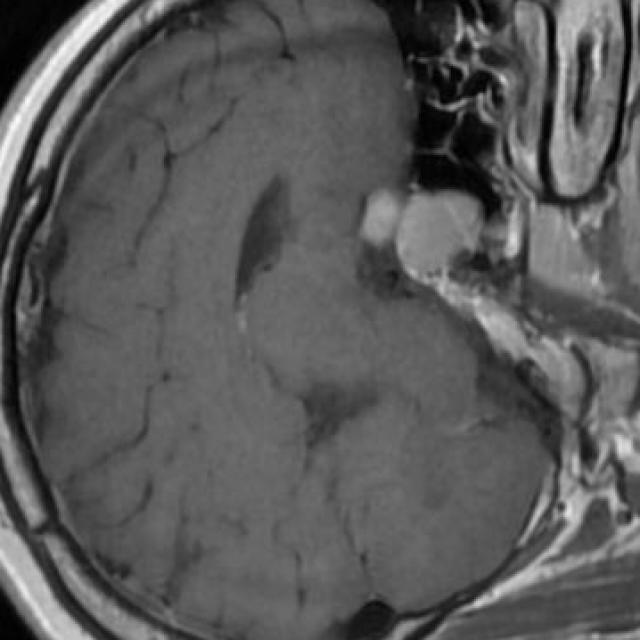pituitary: (360, 191, 474, 280)
